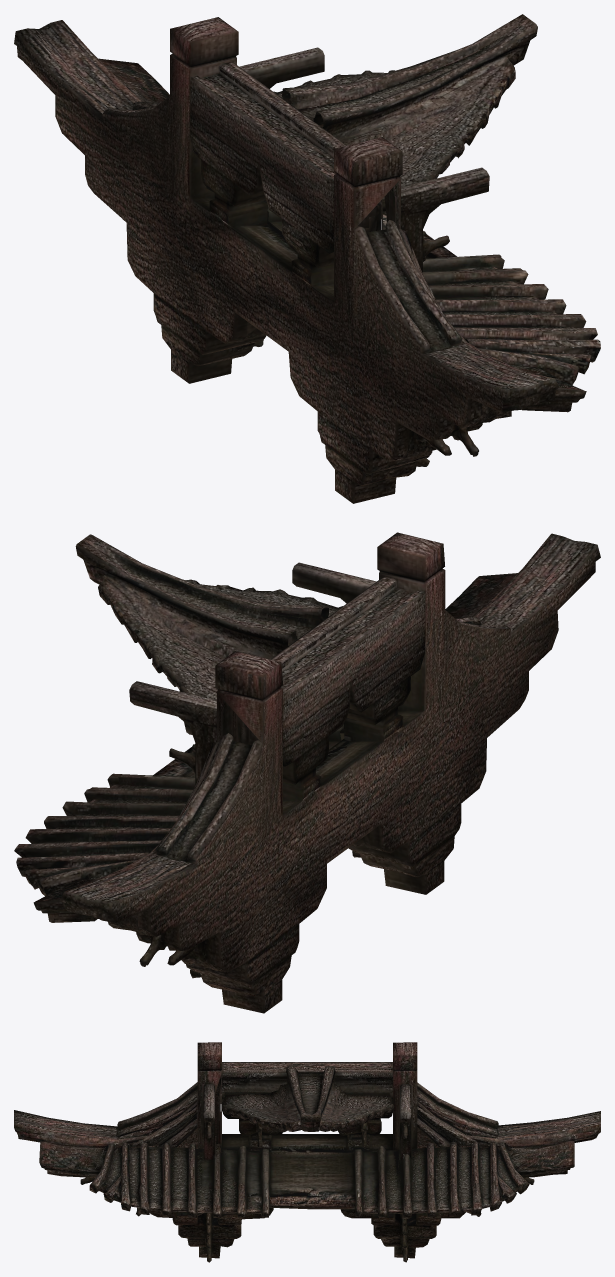
The model's file is tripo_convert_56f95072-109c-4756-aa24-20b61cc7299e.fbx.
The picture shows the model from 3 angles, top to bottom: view 1: azimuth 30°, elevation 25°; view 2: azimuth 150°, elevation 25°; view 3: azimuth 270°, elevation 25°; orthographic projection. The views are drawn at different scales.
Parts seen in each view (by area): view 1: tripo_node_56f95072; view 2: tripo_node_56f95072; view 3: tripo_node_56f95072.
Part boxes in pixels (box(x1,y1,x2,y2)): tripo_node_56f95072: box(14, 14, 600, 503); tripo_node_56f95072: box(14, 532, 600, 1013); tripo_node_56f95072: box(14, 1042, 600, 1262).
Size of the model in its own units: 0.3223 by 0.3926 by 0.998.
Materials: 1 (1 with a texture image).
